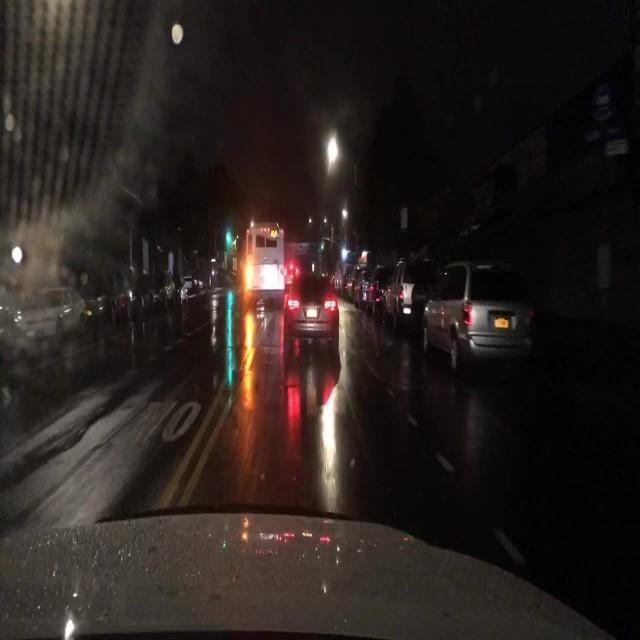normal: (262, 253, 373, 368)
